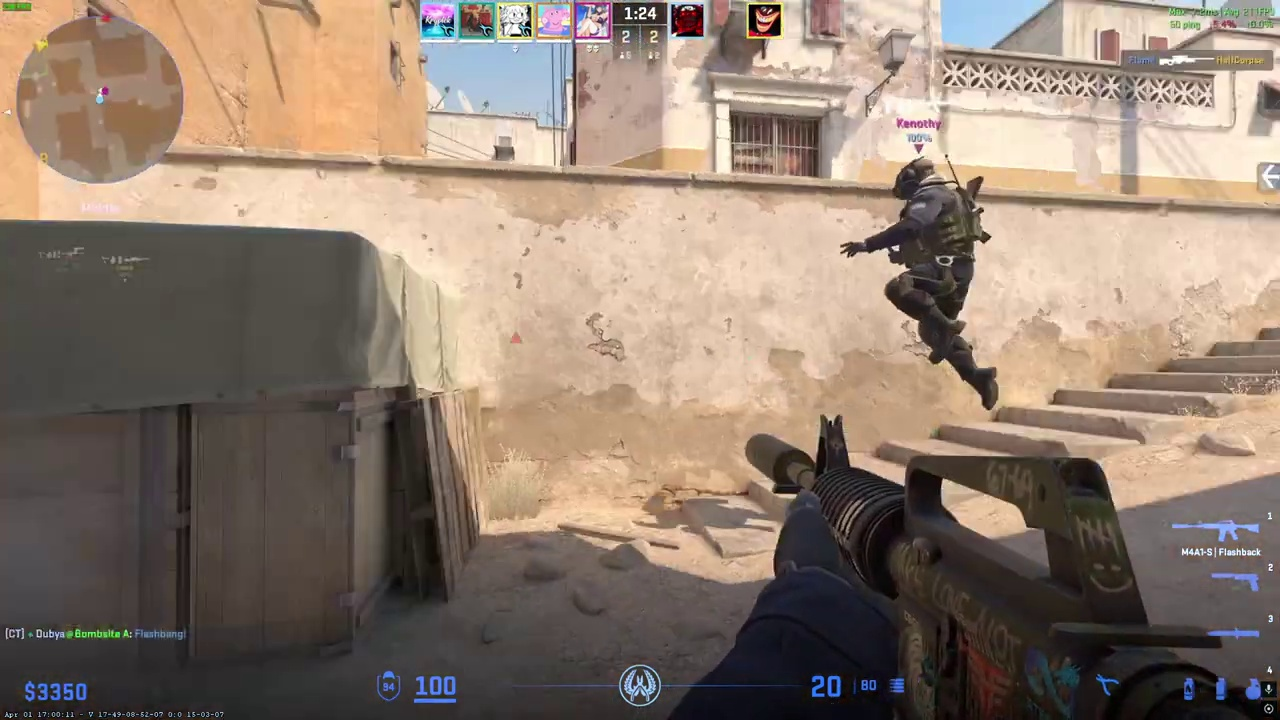CT: (874, 157, 994, 414)
